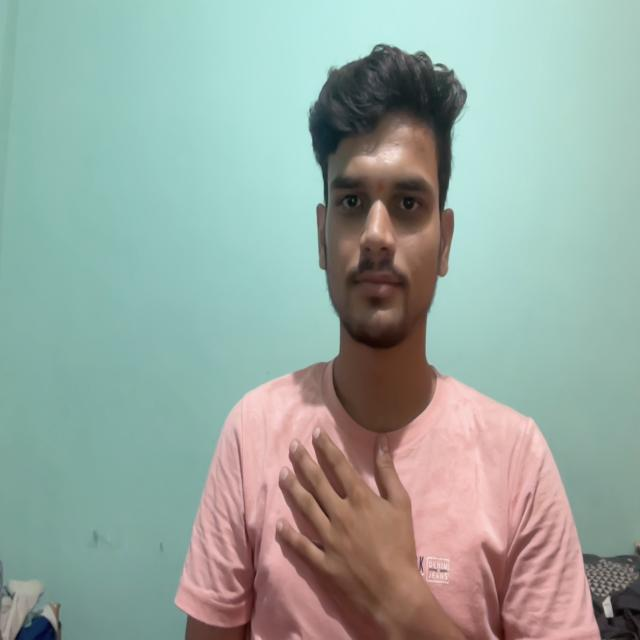Please: (264, 402, 438, 640)
